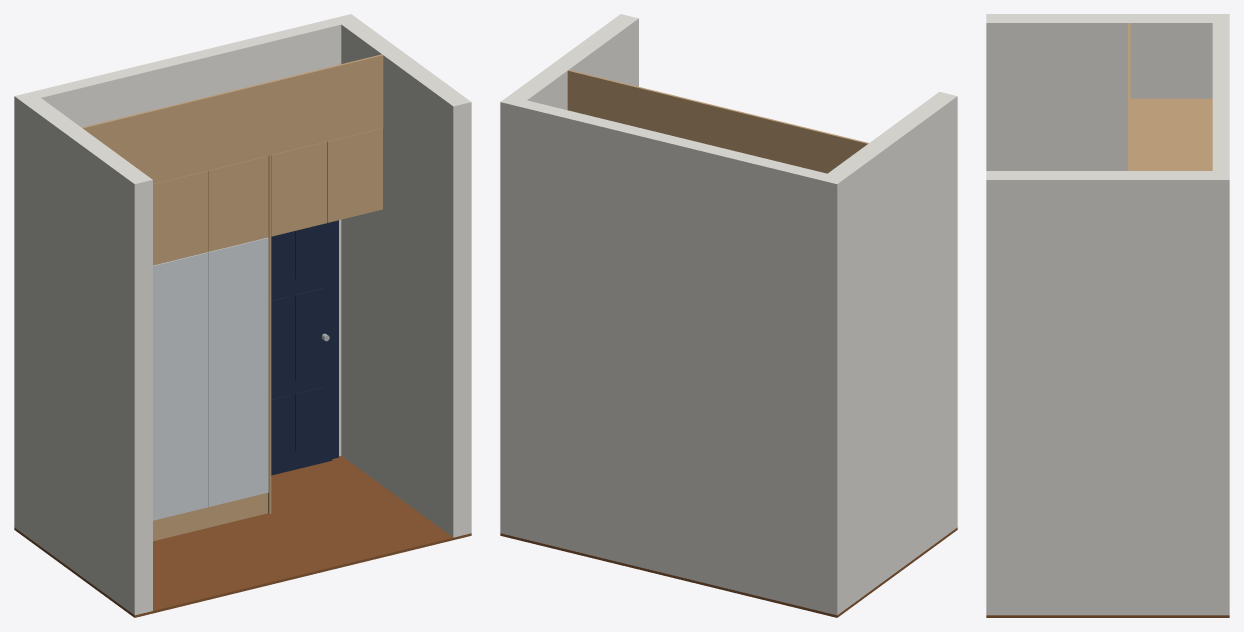
The model's file is pax-wardrobe-top-cupboards-bethnal-green.glb.
3 views of the same model, side by side, from view 1: azimuth 30°, elevation 25°; view 2: azimuth 150°, elevation 25°; view 3: azimuth 270°, elevation 25° (orthographic).
Visible parts, largest first — view 1: Room: left wall, Room: right wall, Room: floor, Top panel to the ceiling, Room: back wall, Mirror door 3, Mirror door 2, Room: door, Top door 3, push to open, Top door 2, push to open, Top door 4, push to open, Top door 5, push to open (+9 smaller); view 2: Room: back wall, Room: left wall, Top panel to the ceiling, Room: right wall, Room: floor; view 3: Room: right wall, Room: left wall, Room: back wall, Top cupboard 1: Top, Top cupboard 2: Top, Top cupboard 3: Top, Room: floor, Top panel to the ceiling.
Part boxes in pixels (bbox=[...]): Room: left wall: bbox=[22, 98, 152, 615]; Room: right wall: bbox=[341, 20, 471, 537]; Room: floor: bbox=[14, 456, 471, 617]; Top panel to the ceiling: bbox=[82, 54, 383, 183]; Room: back wall: bbox=[14, 14, 359, 532]; Mirror door 3: bbox=[208, 237, 268, 506]; Mirror door 2: bbox=[153, 252, 208, 520]; Room: door: bbox=[271, 222, 332, 475]; Top door 3, push to open: bbox=[208, 156, 268, 251]; Top door 2, push to open: bbox=[153, 170, 208, 265]; Top door 4, push to open: bbox=[271, 141, 326, 236]; Top door 5, push to open: bbox=[327, 128, 382, 222]; Room: back wall: bbox=[500, 96, 845, 615]; Room: left wall: bbox=[828, 92, 957, 608]; Top panel to the ceiling: bbox=[567, 70, 868, 173]; Room: right wall: bbox=[509, 14, 638, 110]; Room: floor: bbox=[500, 527, 957, 617]; Room: right wall: bbox=[986, 171, 1212, 615]; Room: left wall: bbox=[986, 14, 1212, 170]; Room: back wall: bbox=[1212, 14, 1229, 615]; Top cupboard 1: Top: bbox=[1130, 99, 1212, 127]; Top cupboard 2: Top: bbox=[1130, 129, 1212, 157]; Top cupboard 3: Top: bbox=[1130, 159, 1212, 170]; Room: floor: bbox=[986, 615, 1229, 617]; Top panel to the ceiling: bbox=[1128, 23, 1130, 170].
Size of the model in its own units: 2.78 by 3.42 by 1.72.
